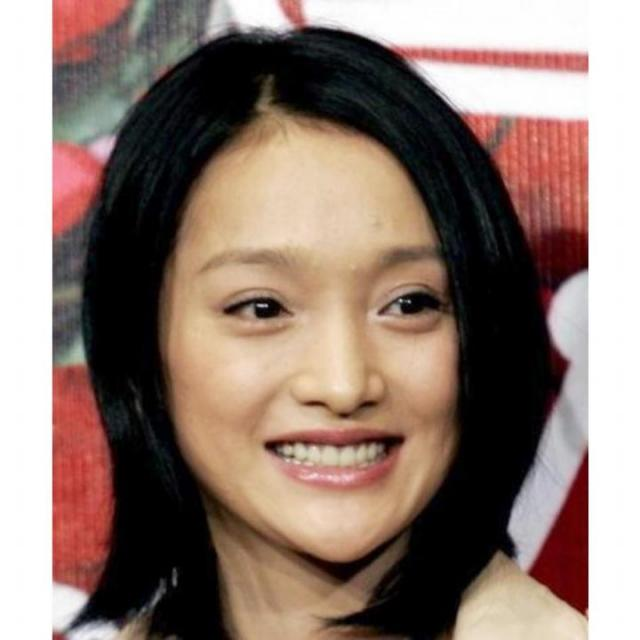live: (154, 118, 468, 559)
